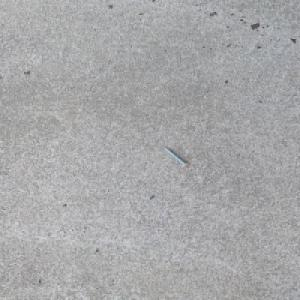Screw: (163, 146, 189, 166)
